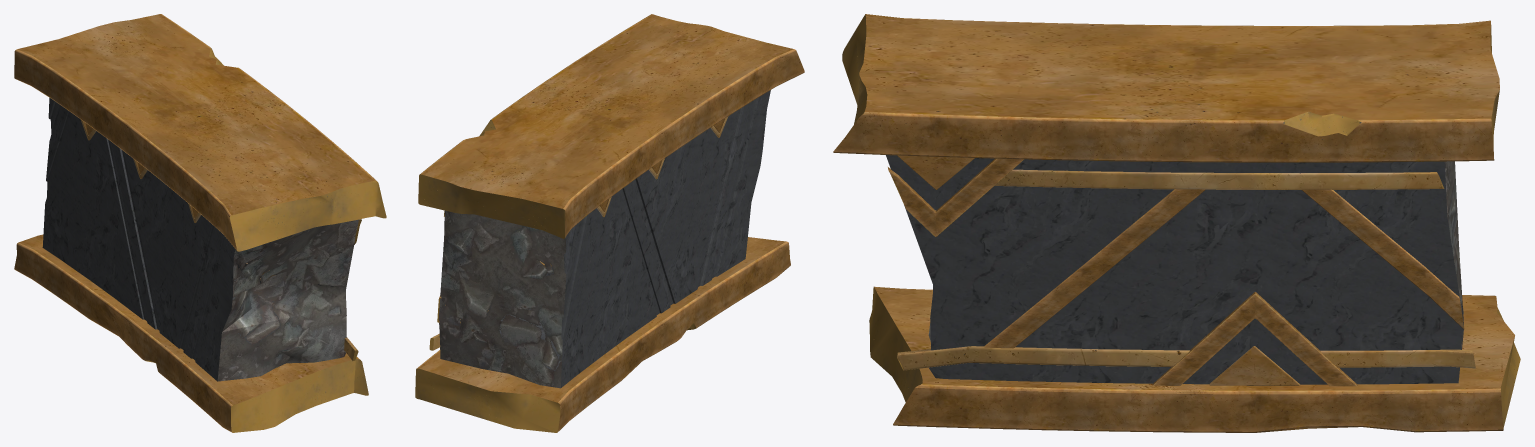
3 views of the same model, side by side, from view 1: azimuth 30°, elevation 25°; view 2: azimuth 150°, elevation 25°; view 3: azimuth 270°, elevation 25° (orthographic). The views are drawn at different scales.
Parts seen in each view (by area): view 1: SM_Kuldras_Arena_RingPiece_06_LOD0; view 2: SM_Kuldras_Arena_RingPiece_06_LOD0; view 3: SM_Kuldras_Arena_RingPiece_06_LOD0.
Part boxes in pixels (left/top/right/bottom): SM_Kuldras_Arena_RingPiece_06_LOD0: left=14, top=14, right=386, bottom=432; SM_Kuldras_Arena_RingPiece_06_LOD0: left=415, top=14, right=804, bottom=432; SM_Kuldras_Arena_RingPiece_06_LOD0: left=833, top=14, right=1520, bottom=432.
Bounding box in the file's own units: 8.56 × 11.42 × 22.72.
Materials: 4 (4 with a texture image).
